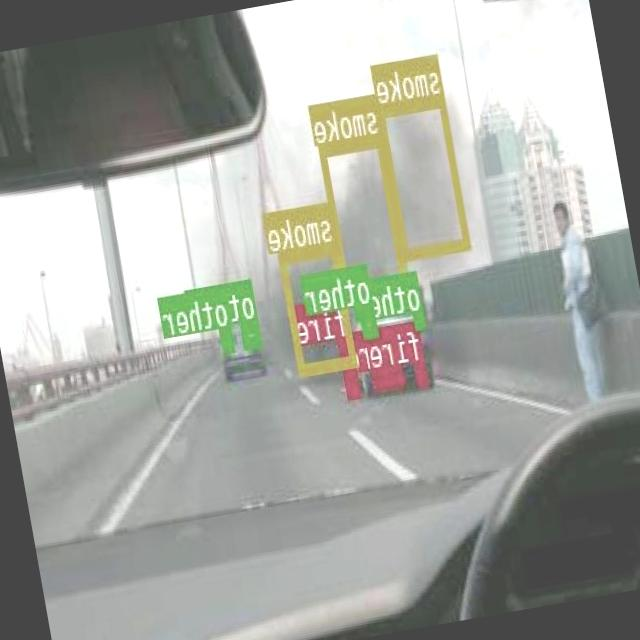fire: (339, 336, 362, 396), (372, 363, 406, 387), (415, 360, 429, 383)
smoke: (378, 91, 472, 258), (319, 132, 409, 292), (279, 241, 358, 373)
